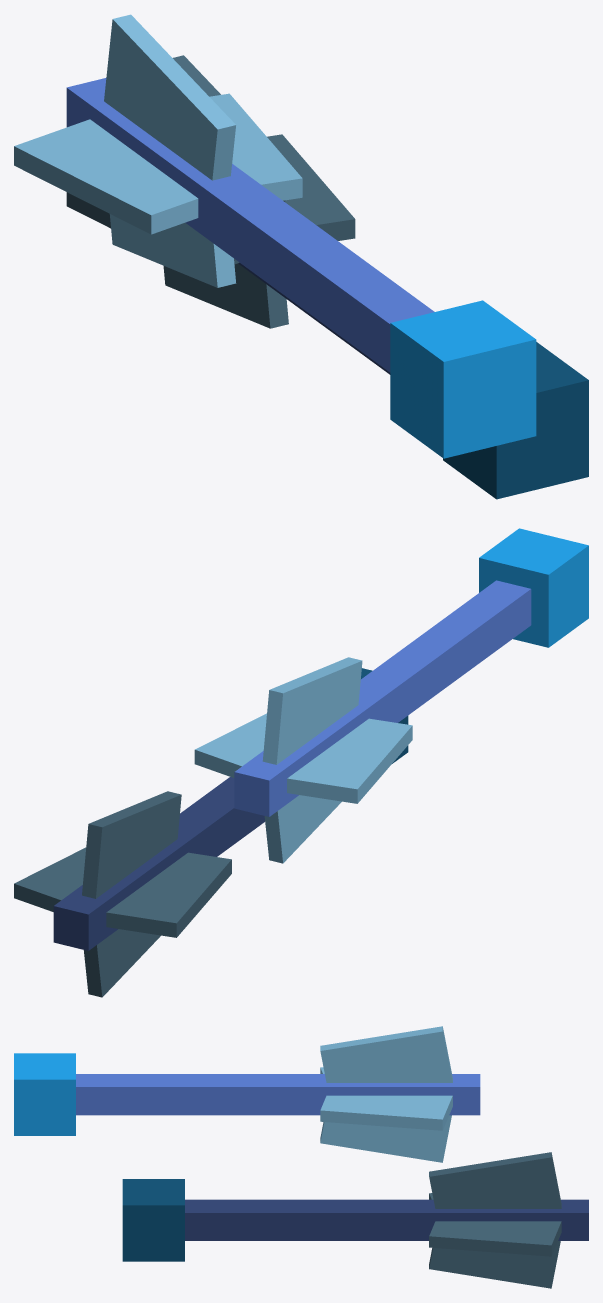
File: DuplicateArrowA.fbx
The picture shows the model from 3 angles, top to bottom: view 1: azimuth 30°, elevation 25°; view 2: azimuth 150°, elevation 25°; view 3: azimuth 270°, elevation 25°; orthographic projection. The views are drawn at different scales.
Parts seen in each view (by area): view 1: Cube.001, Cube.014, Cube.005, Cube.003, Cube.011, Cube.006, Cube.004, Cube.010, Cube.007, Cube.008; view 2: Cube.001, Cube.002, Cube.014, Cube.005, Cube.009, Cube.003, Cube.008, Cube.006, Cube.010, Cube.004, Cube.007; view 3: Cube.001, Cube.002, Cube.009, Cube.005, Cube.011, Cube.014, Cube.004, Cube.007, Cube.006, Cube.010.
Boxes of the visible parts, x1=… form: Cube.001: x1=66, y1=78, x2=434, y2=372; Cube.014: x1=390, y1=300, x2=536, y2=458; Cube.005: x1=104, y1=14, x2=235, y2=180; Cube.003: x1=14, y1=119, x2=198, y2=234; Cube.011: x1=443, y1=342, x2=588, y2=499; Cube.006: x1=109, y1=214, x2=236, y2=287; Cube.004: x1=209, y1=93, x2=302, y2=200; Cube.010: x1=163, y1=263, x2=288, y2=328; Cube.007: x1=267, y1=134, x2=355, y2=240; Cube.008: x1=66, y1=192, x2=239, y2=264; Cube.001: x1=234, y1=580, x2=531, y2=816; Cube.002: x1=53, y1=777, x2=264, y2=950; Cube.014: x1=479, y1=528, x2=588, y2=647; Cube.005: x1=262, y1=657, x2=362, y2=764; Cube.009: x1=82, y1=791, x2=181, y2=898; Cube.003: x1=287, y1=718, x2=412, y2=803; Cube.008: x1=106, y1=852, x2=231, y2=937; Cube.006: x1=264, y1=795, x2=341, y2=863; Cube.010: x1=83, y1=929, x2=160, y2=997; Cube.004: x1=194, y1=713, x2=266, y2=777; Cube.007: x1=14, y1=847, x2=86, y2=911; Cube.001: x1=76, y1=1074, x2=480, y2=1115; Cube.002: x1=185, y1=1199, x2=588, y2=1240; Cube.009: x1=429, y1=1152, x2=561, y2=1208; Cube.005: x1=320, y1=1026, x2=452, y2=1082; Cube.011: x1=122, y1=1179, x2=184, y2=1261; Cube.014: x1=14, y1=1053, x2=75, y2=1135; Cube.004: x1=320, y1=1095, x2=452, y2=1130; Cube.007: x1=429, y1=1221, x2=561, y2=1256; Cube.006: x1=320, y1=1115, x2=451, y2=1162; Cube.010: x1=429, y1=1241, x2=560, y2=1288.
Size of the model in its own units: 78.26 by 76.57 by 185.
